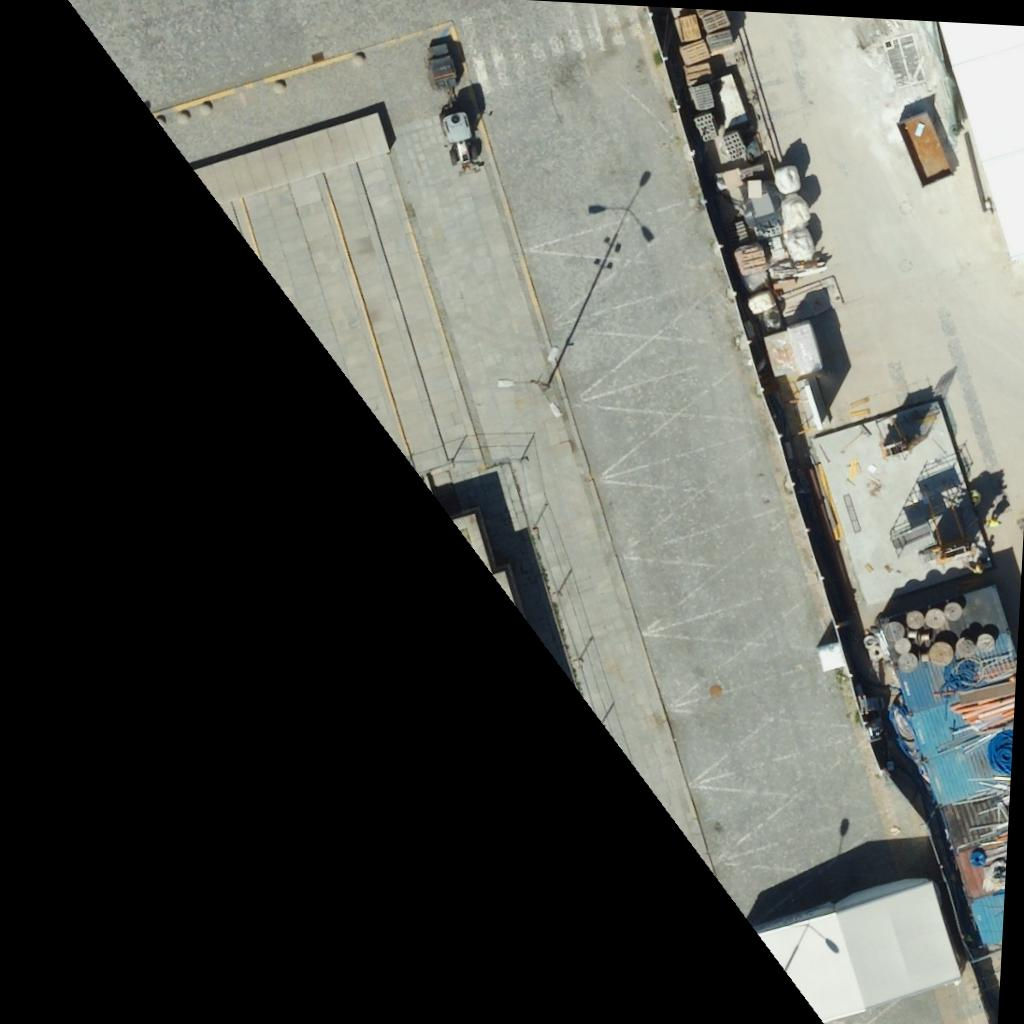kontener: (753, 870, 963, 1024), (970, 890, 1004, 948)
koparka: (434, 106, 486, 180)
